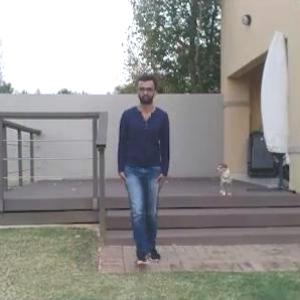follow: (119, 60, 181, 292)
